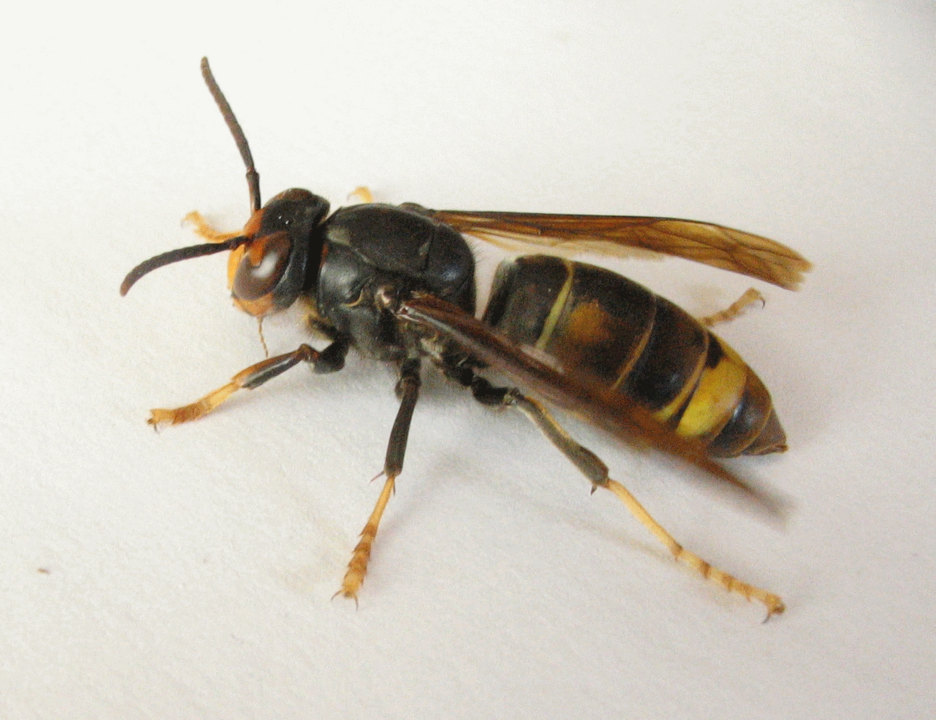hornet: (168, 130, 845, 564)
